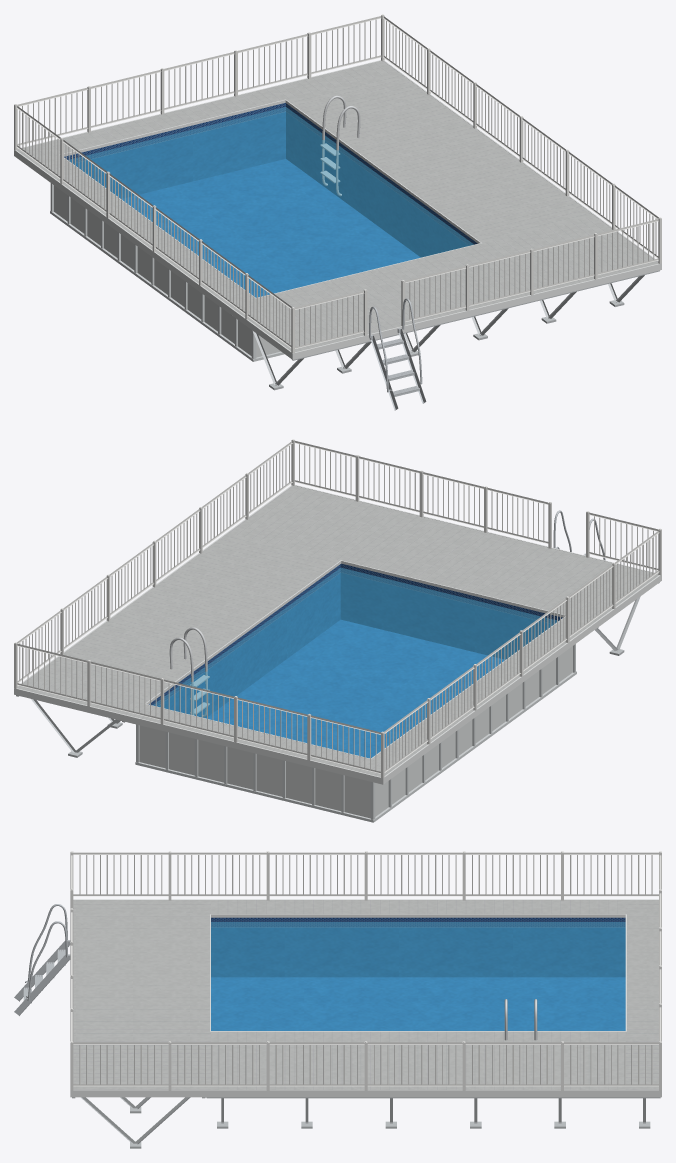
Rendered from kayak-pool-16x24-white-endside-ag-fence.ee4bd216c2.glb.
3 renders of one model, top to bottom at view 1: azimuth 30°, elevation 25°; view 2: azimuth 150°, elevation 25°; view 3: azimuth 270°, elevation 25°, orthographic. The views are drawn at different scales.
Visible parts, largest first — view 1: deck, water, fence, liner_floor, liner_wall, fascia, wall, upright, stud, ladder, steel; view 2: deck, water, fence, liner_floor, liner_wall, wall, fascia, upright, stud, steel; view 3: deck, water, liner_wall, liner_floor, fence, fascia, stud, ladder.
Boxes of the visible parts, x1,y1,x2,y2 form: deck: (17, 61, 658, 352); water: (68, 107, 473, 297); fence: (14, 14, 661, 353); liner_floor: (122, 159, 420, 297); liner_wall: (64, 103, 477, 257); fascia: (14, 60, 661, 359); wall: (54, 185, 280, 357); upright: (50, 183, 284, 361); stud: (230, 270, 659, 390); ladder: (369, 298, 426, 410); steel: (320, 95, 360, 195); deck: (17, 485, 658, 776); water: (153, 568, 558, 758); fence: (14, 439, 661, 778); liner_floor: (206, 620, 504, 758); liner_wall: (149, 563, 562, 718); wall: (139, 646, 572, 818); fascia: (14, 485, 661, 784); upright: (135, 644, 576, 822); stud: (16, 582, 659, 757); steel: (169, 627, 209, 717); deck: (73, 900, 658, 1089); water: (211, 922, 625, 1030); liner_wall: (211, 917, 625, 977); liner_floor: (211, 977, 625, 1030); fence: (70, 851, 661, 1090); fascia: (70, 899, 661, 1097); stud: (72, 1097, 660, 1148); ladder: (14, 904, 70, 1015).
Bounding box in the file's own units: 7.93 × 2.15 × 11.35.
Materials: 11 (3 with a texture image).
